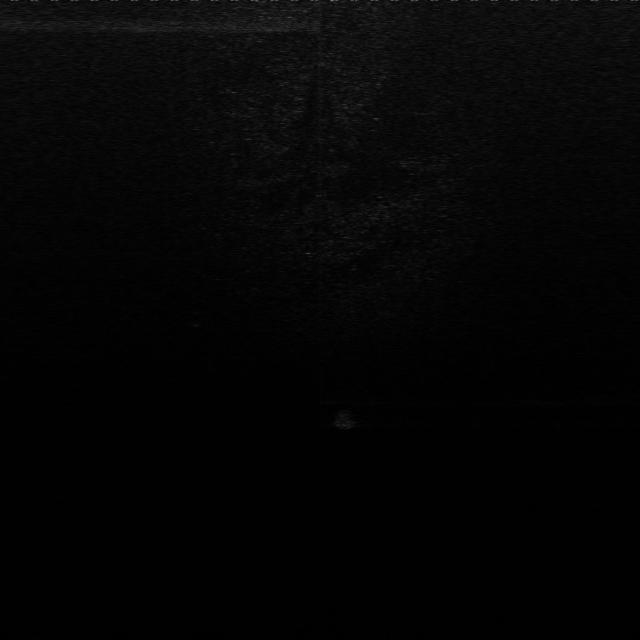circle cage: (320, 406, 374, 435)
